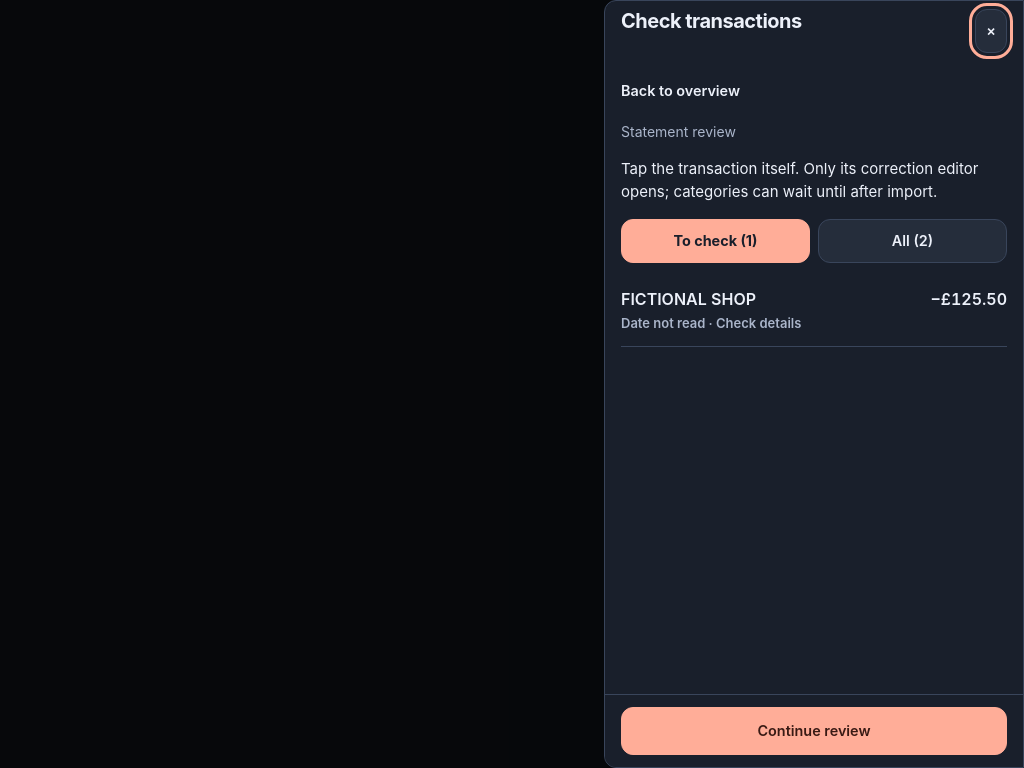
Test: manual statement review workspace › opens a date-only question while keeping the amount
The width and height of the screenshot is (1024, 768).
Click the button "FICTIONAL SHOP Date not read · Check details −£125.50".
click(688, 299)  # box top-left (621, 275), bottom-right (1007, 347)
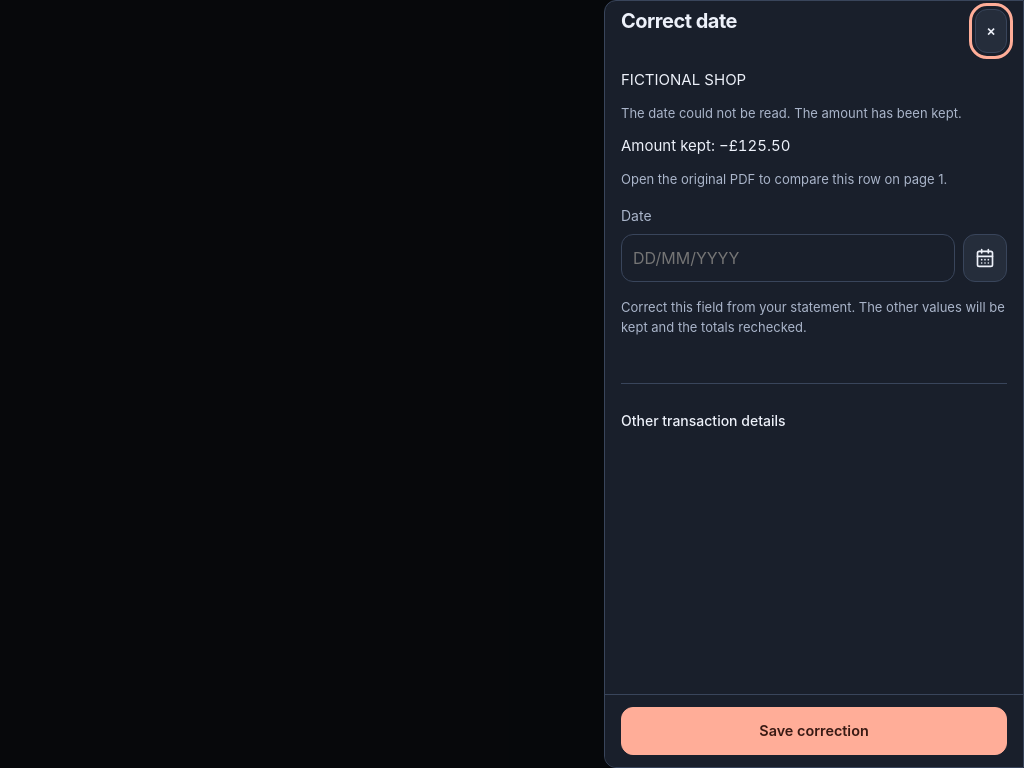
expect the dialog "Correct date" is shown: met, box top-left (604, 0), bottom-right (1023, 767)
expect the text "Amount kept: −£125.50" is shown: met, box top-left (621, 136), bottom-right (790, 155)
